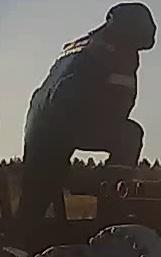vest: (25, 34, 137, 156)
